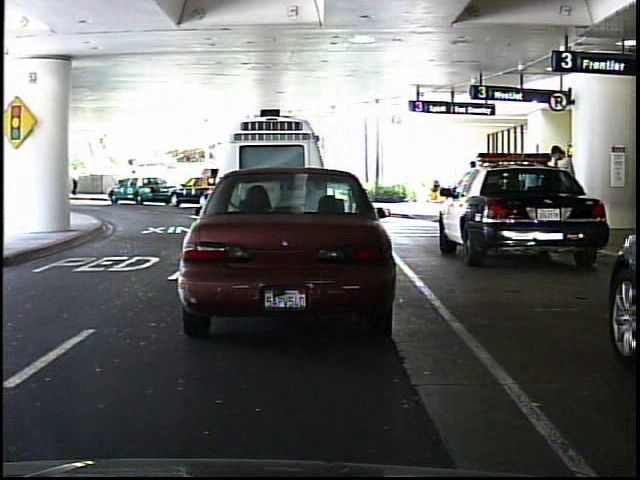person: (547, 138, 579, 240), (125, 166, 144, 199), (72, 163, 84, 198)
